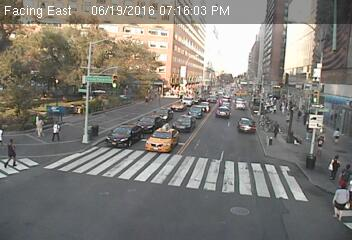neg: (189, 18, 210, 46), (153, 29, 171, 52), (261, 74, 277, 95), (136, 118, 151, 139), (43, 46, 58, 67), (93, 34, 108, 54), (198, 129, 212, 148), (84, 147, 98, 166), (115, 183, 128, 201), (132, 162, 144, 178), (29, 193, 41, 209), (215, 50, 227, 66), (207, 89, 218, 105), (268, 19, 279, 34), (180, 98, 191, 112), (165, 172, 175, 186), (269, 43, 279, 56), (303, 51, 313, 64), (307, 21, 315, 32), (84, 181, 92, 191), (98, 75, 106, 85)
pos: (329, 181, 351, 221), (322, 151, 344, 182), (45, 117, 66, 144), (29, 110, 48, 135), (338, 162, 351, 186), (314, 132, 328, 152), (271, 119, 284, 137), (332, 124, 345, 141), (285, 110, 295, 124), (295, 107, 305, 121)
